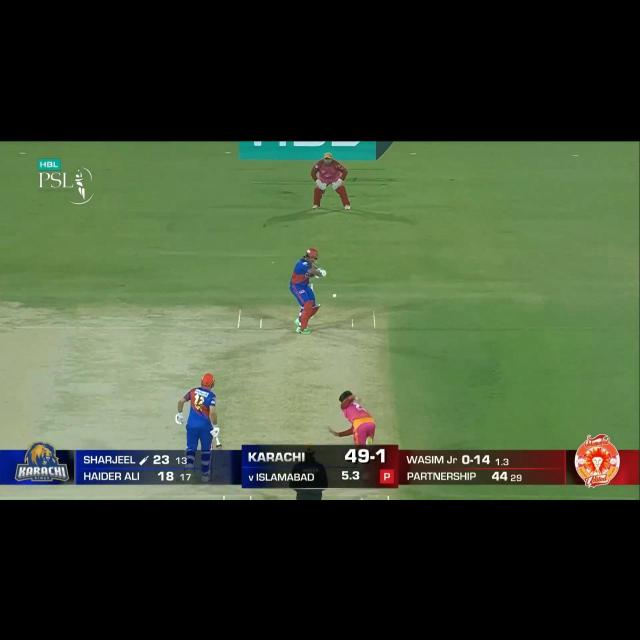bat: (313, 265, 319, 272)
